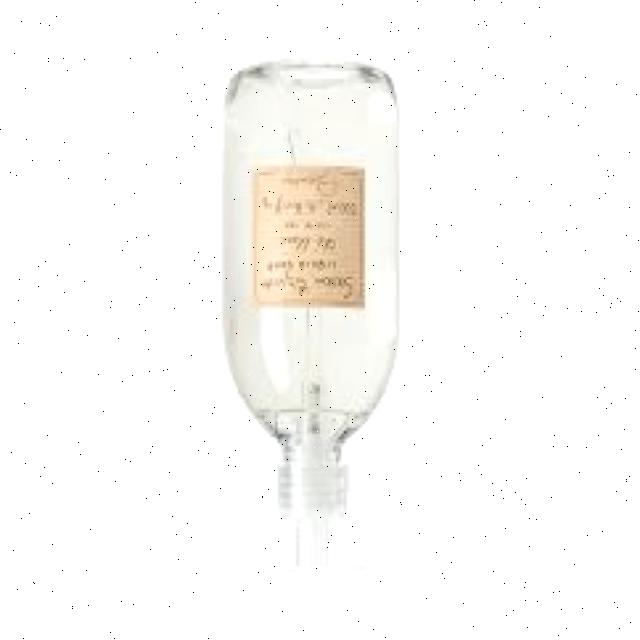liquid soap: (206, 55, 412, 596)
